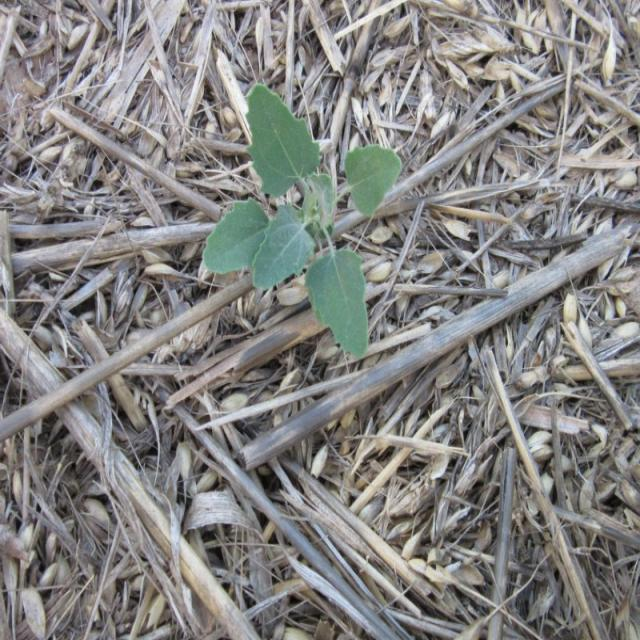ca: (209, 86, 400, 361)
